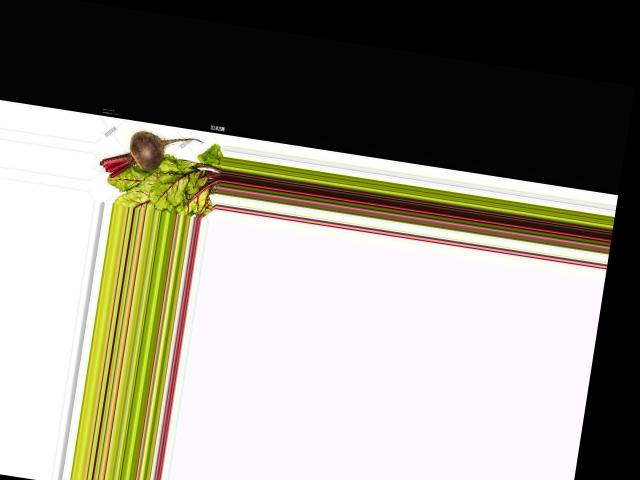beet: (97, 124, 203, 190)
